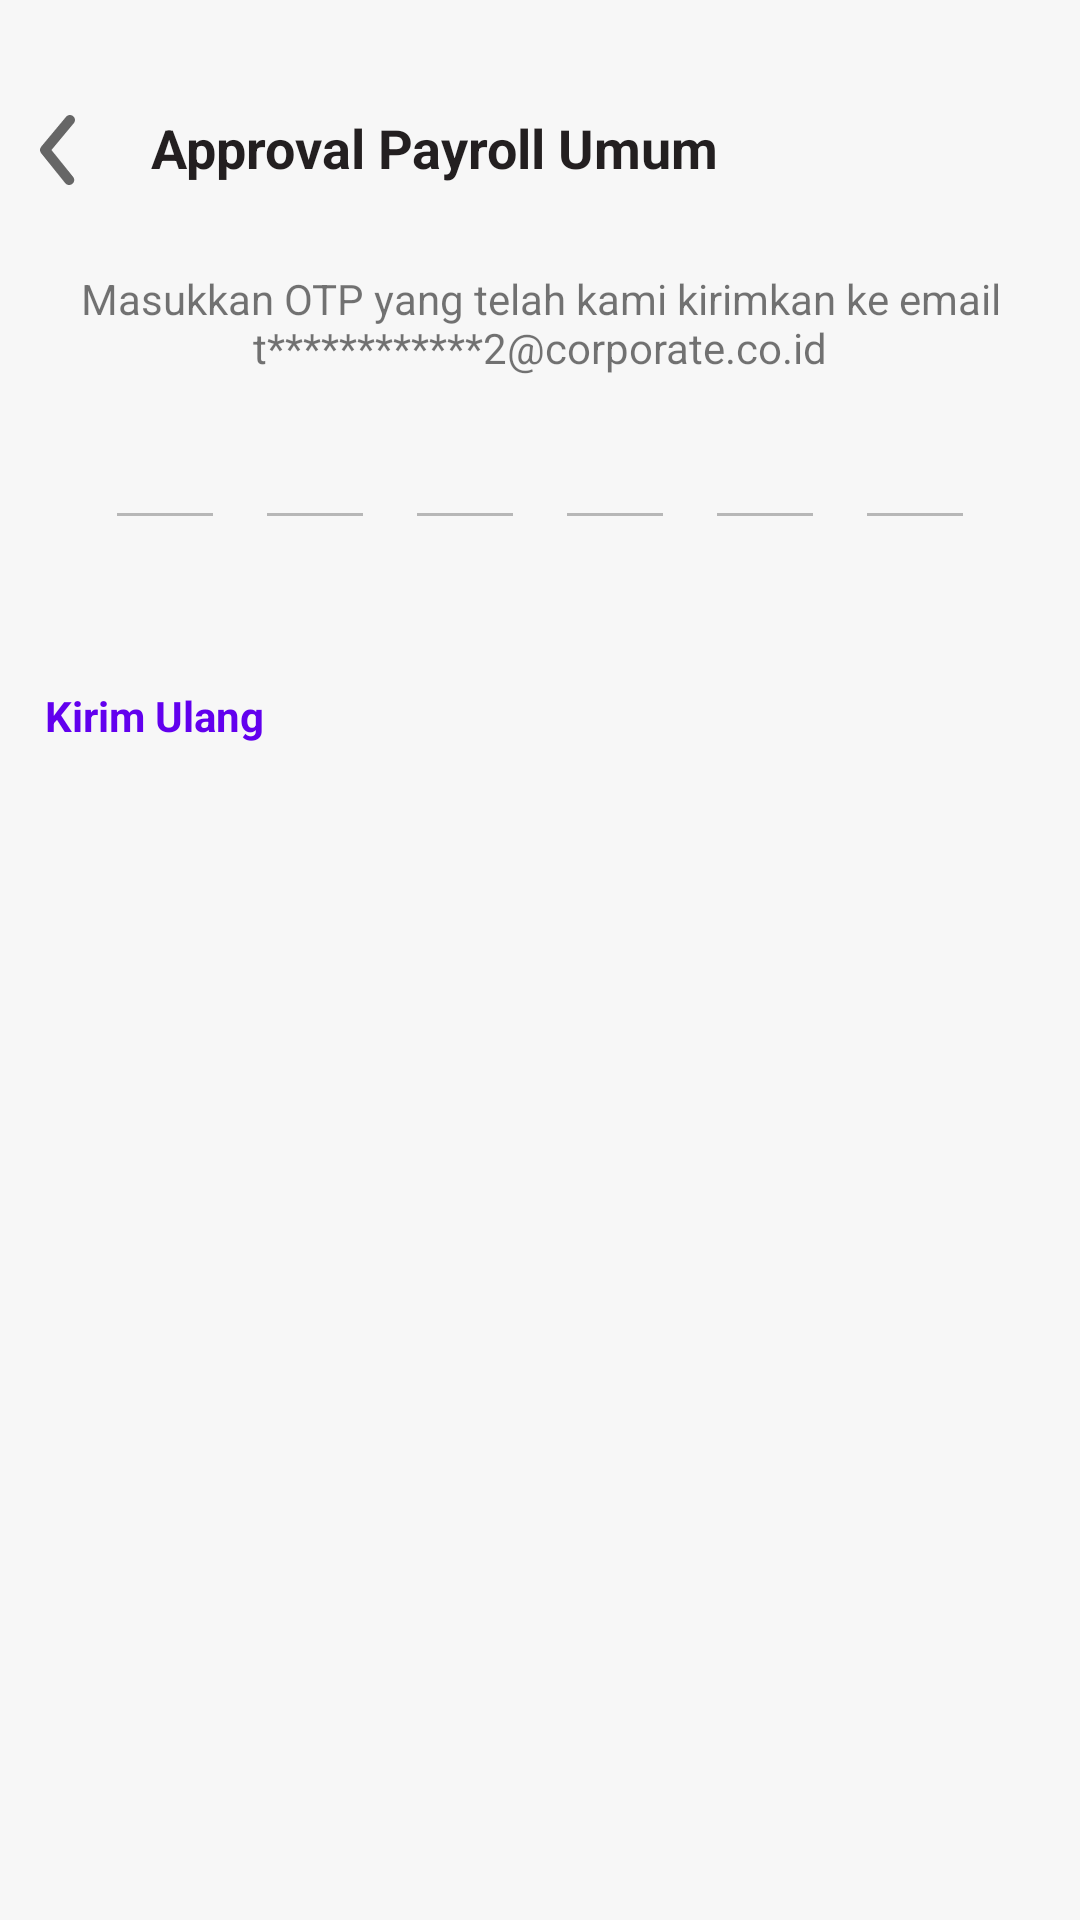

Icon click points for this 1080px x 1920px phone screenshot, format [x,y]:
back arrow: [57,150]
